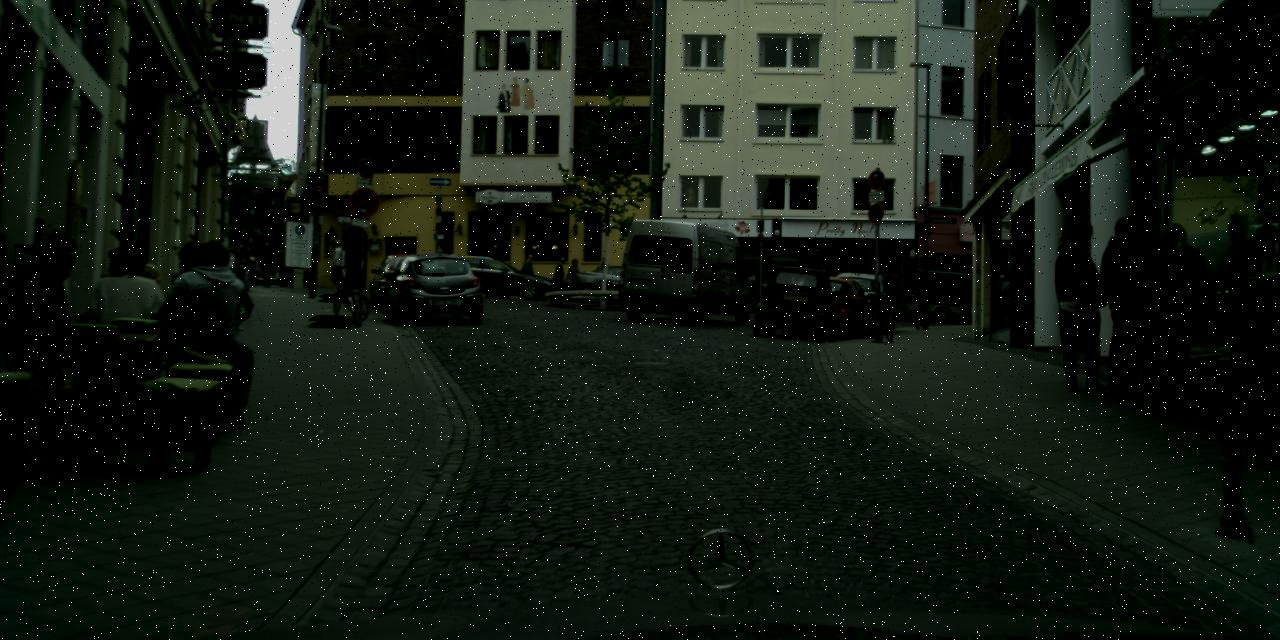ped: (1140, 222, 1211, 398), (1046, 218, 1116, 390), (1086, 217, 1156, 388), (1106, 227, 1175, 395), (328, 238, 350, 294), (240, 235, 260, 288), (258, 242, 276, 287), (277, 245, 293, 286), (234, 246, 250, 284), (519, 254, 535, 292), (552, 256, 567, 292), (595, 258, 609, 294), (566, 257, 580, 292), (519, 257, 533, 291), (225, 248, 238, 281)
